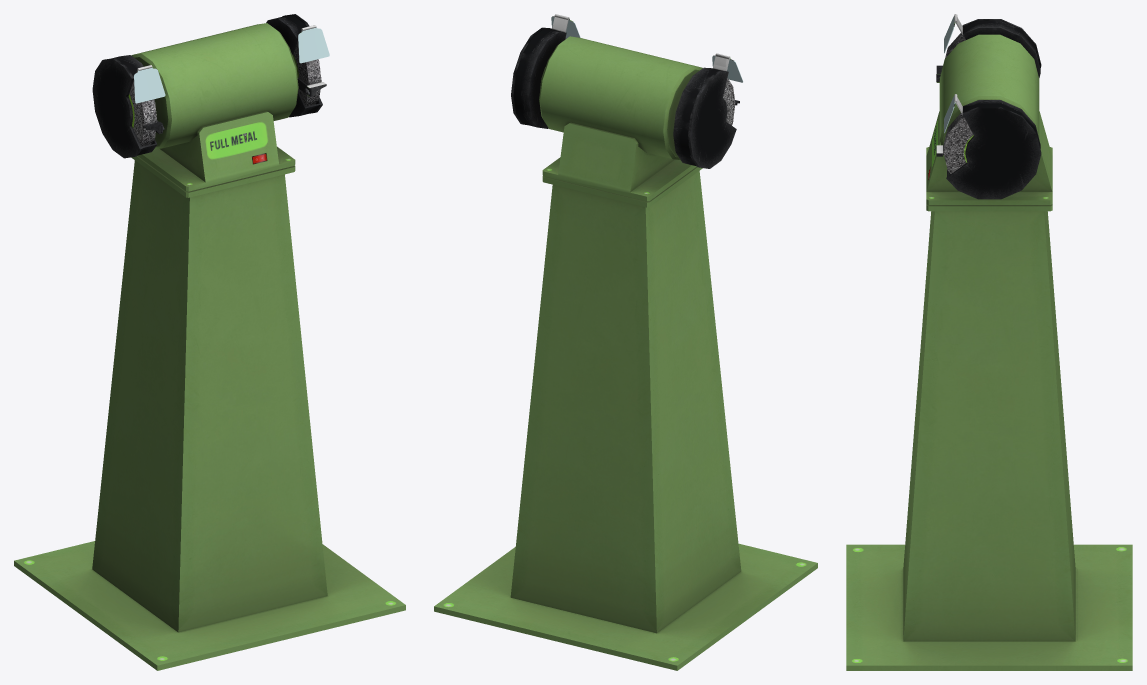
File: esmeriladora.FBX
3 views of the same model, side by side, from view 1: azimuth 30°, elevation 25°; view 2: azimuth 150°, elevation 25°; view 3: azimuth 270°, elevation 25° (orthographic). The views are drawn at different scales.
Visible parts, largest first — view 1: Base, Esmerilador, Protector1, Protector2, Disco1, ProtectorVidrio2, ProtectorVidrio1, Disco2; view 2: Base, Esmerilador, Protector1, Protector2; view 3: Base, Protector2, Esmerilador, Protector1, Disco2.
Boxes of the visible parts, x1,y1,x2,y2 form: Base: (14,111,405,670); Esmerilador: (131,23,298,149); Protector1: (92,55,162,158); Protector2: (266,14,322,117); Disco1: (128,80,157,146); ProtectorVidrio2: (298,27,329,63); ProtectorVidrio1: (133,67,165,103); Disco2: (293,40,321,106); Base: (434,122,817,670); Esmerilador: (539,36,702,159); Protector1: (673,53,736,168); Protector2: (511,14,569,128); Base: (846,111,1132,670); Protector2: (936,94,1041,199); Esmerilador: (939,34,1039,159); Protector1: (936,14,1041,81); Disco2: (943,113,973,173).
Bounding box in the file's own units: 19.29 × 41.09 × 19.29.
1 material, 1 textured.
